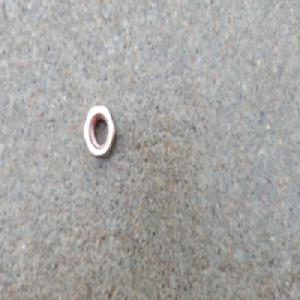Nut: (82, 103, 116, 159)
